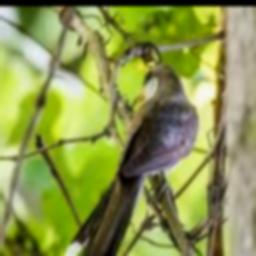Cuckoo: (62, 63, 199, 256)
